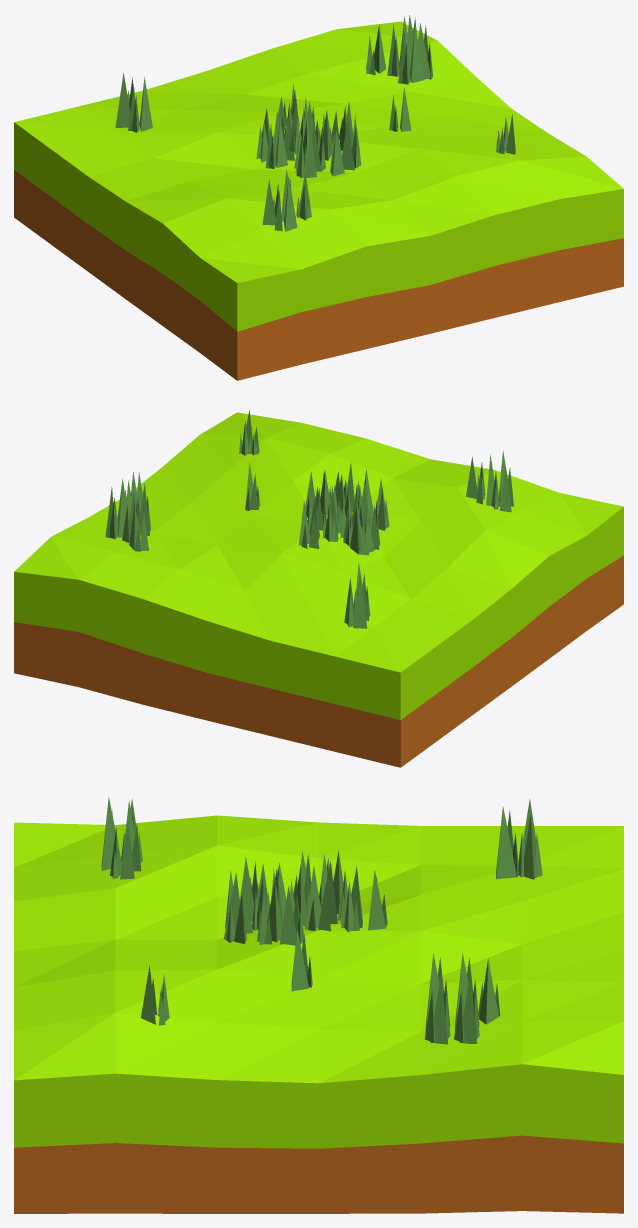
Rendered from TILE_HERBE_neutre-terre.fbx.
The picture shows the model from 3 angles, top to bottom: view 1: azimuth 30°, elevation 25°; view 2: azimuth 150°, elevation 25°; view 3: azimuth 270°, elevation 25°; orthographic projection. The views are drawn at different scales.
Visible parts, largest first — view 1: Cone; view 2: Cone; view 3: Cone.
Part boxes in pixels (x1,y1,x2,y2): Cone: [14, 15, 623, 380]; Cone: [14, 410, 623, 767]; Cone: [14, 796, 623, 1213].
Size of the model in its own units: 5 by 2.03 by 5.
